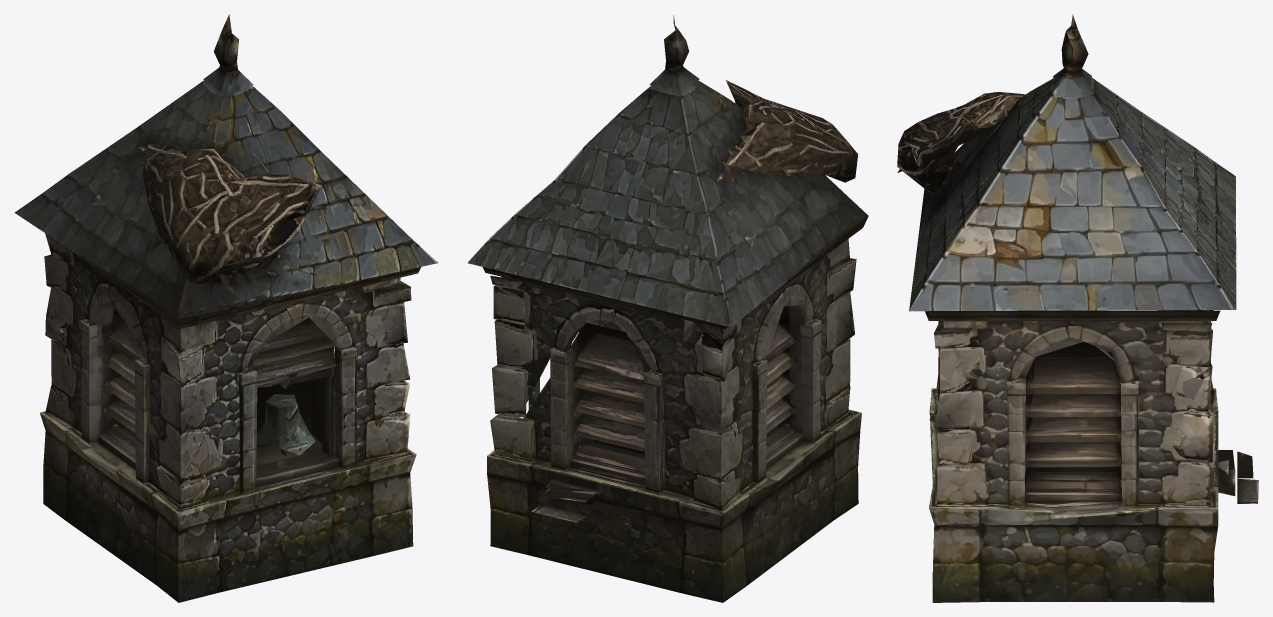
Rendered from act1_extras_v1_drowned_bell_tower.glb.
3 renders of one model, left to right at view 1: azimuth 30°, elevation 25°; view 2: azimuth 150°, elevation 25°; view 3: azimuth 270°, elevation 25°, orthographic. The views are drawn at different scales.
Parts seen in each view (by area): view 1: A17_2_drowned_bell_tower; view 2: A17_2_drowned_bell_tower; view 3: A17_2_drowned_bell_tower.
Boxes of the visible parts, x1=… form: A17_2_drowned_bell_tower: x1=14, y1=14, x2=437, y2=602; A17_2_drowned_bell_tower: x1=467, y1=15, x2=868, y2=602; A17_2_drowned_bell_tower: x1=897, y1=14, x2=1258, y2=602.
Bounding box in the file's own units: 0.5454 × 0.9995 × 0.6182.
1 material, 1 textured.
